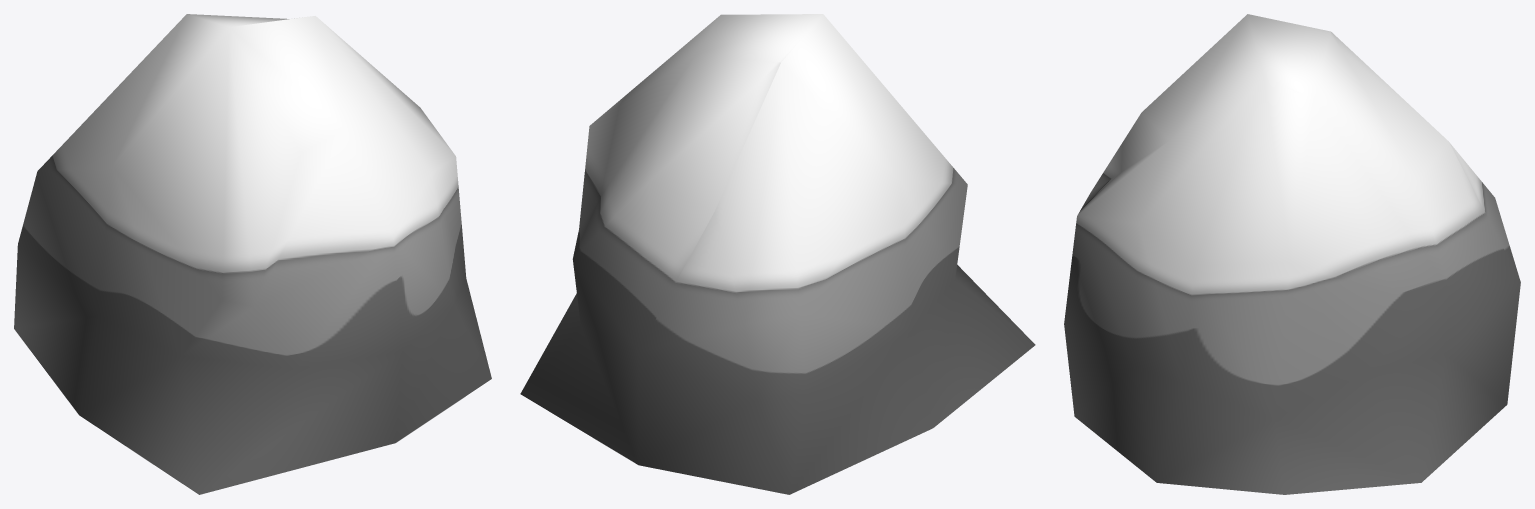
The model's file is RockSnow5.fbx.
3 views of the same model, side by side, from view 1: azimuth 30°, elevation 25°; view 2: azimuth 150°, elevation 25°; view 3: azimuth 270°, elevation 25° (orthographic).
Visible parts, largest first — view 1: RockSnow4; view 2: RockSnow4; view 3: RockSnow4.
Boxes of the visible parts, x1,y1,x2,y2 form: RockSnow4: [14, 14, 491, 494]; RockSnow4: [520, 14, 1035, 494]; RockSnow4: [1064, 14, 1520, 494].
Bounding box in the file's own units: 144 × 138 × 156.
